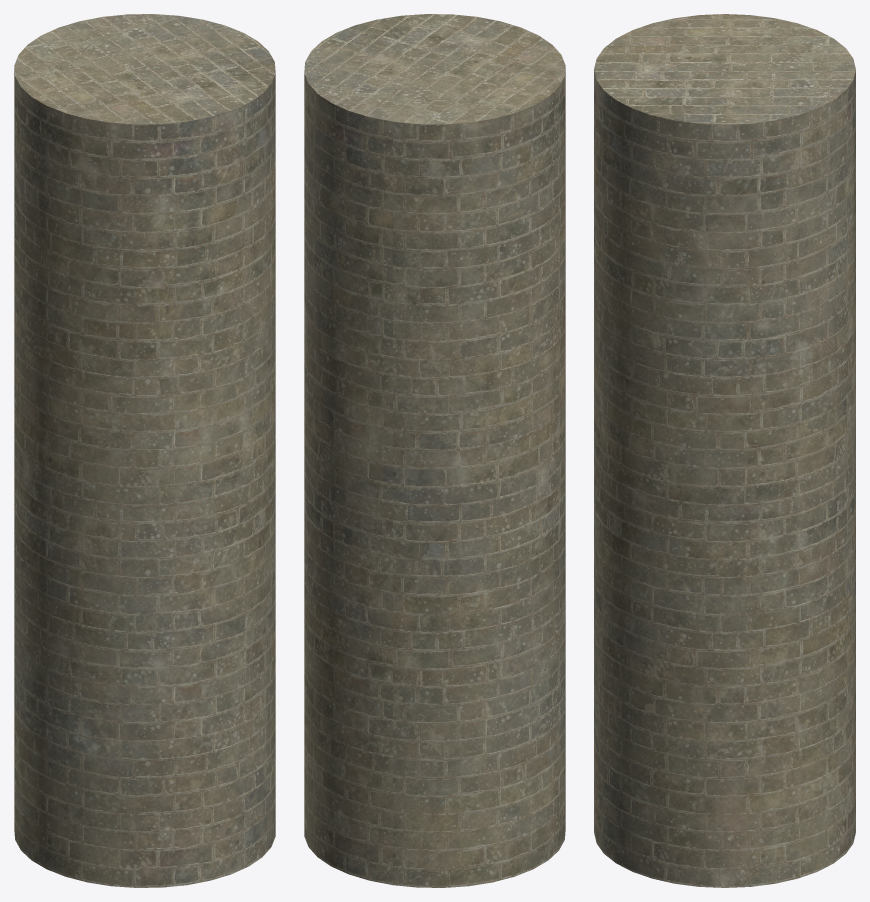
File: SM_WallColumn02_LOD0_002.glb
3 renders of one model, left to right at view 1: azimuth 30°, elevation 25°; view 2: azimuth 150°, elevation 25°; view 3: azimuth 270°, elevation 25°, orthographic.
Parts seen in each view (by area): view 1: SM_WallColumn02_LOD0.002; view 2: SM_WallColumn02_LOD0.002; view 3: SM_WallColumn02_LOD0.002.
Boxes of the visible parts, left/top/right/bottom form: SM_WallColumn02_LOD0.002: left=14, top=14, right=275, bottom=887; SM_WallColumn02_LOD0.002: left=304, top=14, right=565, bottom=887; SM_WallColumn02_LOD0.002: left=594, top=14, right=855, bottom=887.
Size of the model in its own units: 1.24 by 4 by 1.24.
Materials: 1 (1 with a texture image).
